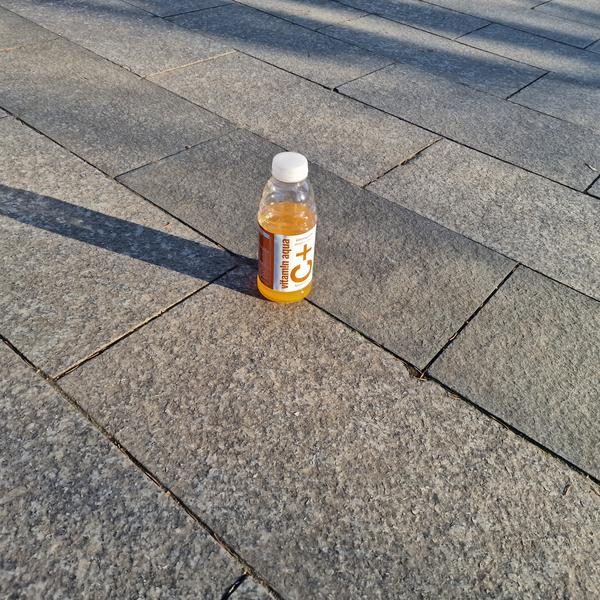plastic_bottle: (257, 151, 318, 304)
